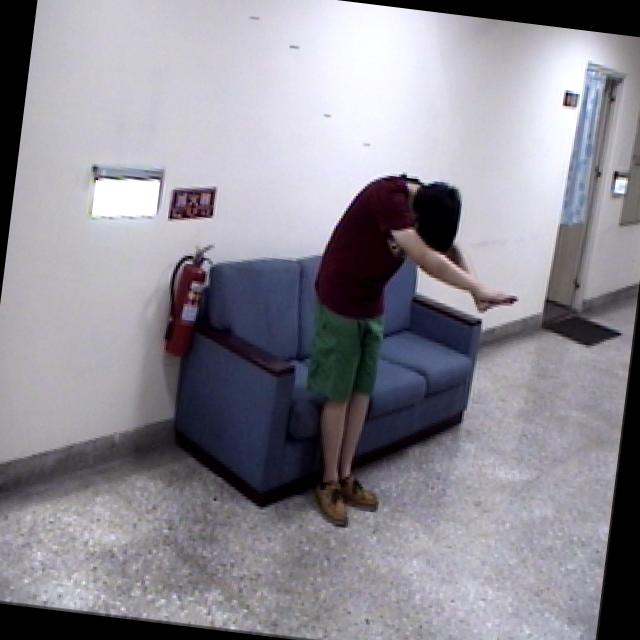bend: (277, 160, 536, 548)
